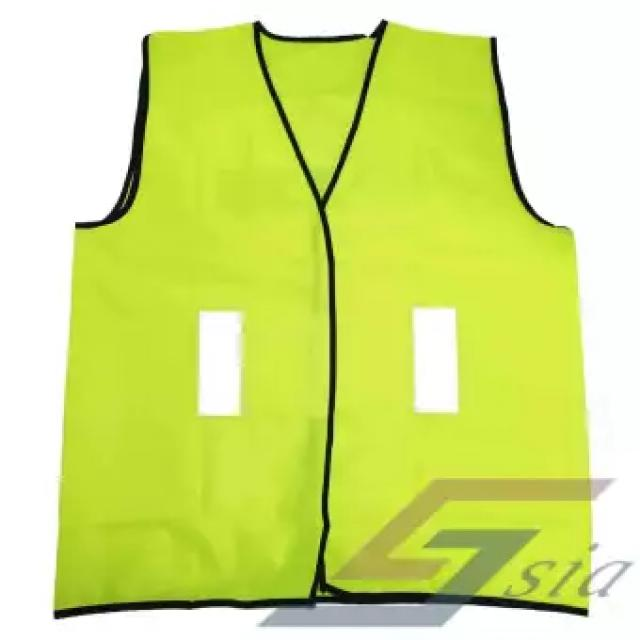Reflective-Jacket: (15, 8, 636, 634)
